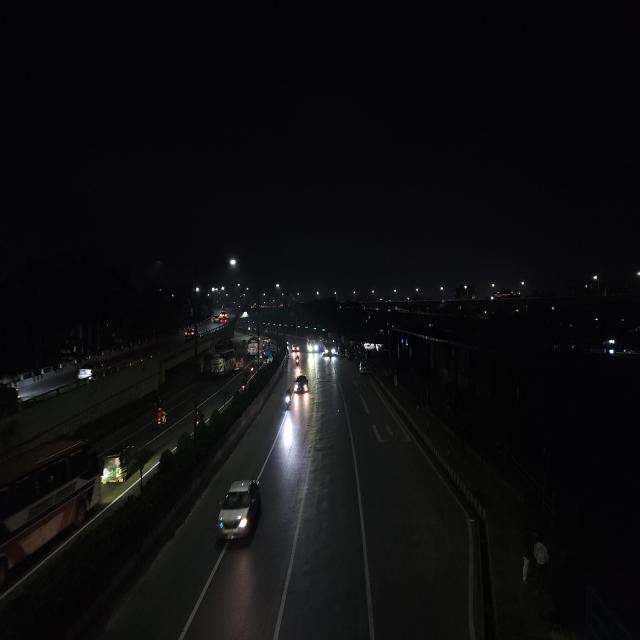bus: (0, 434, 101, 573), (209, 344, 237, 379), (246, 336, 260, 356), (324, 338, 337, 359), (308, 335, 320, 354)
car: (215, 476, 265, 550), (76, 359, 112, 384), (293, 372, 311, 396), (184, 324, 198, 339), (357, 359, 369, 376), (212, 315, 222, 324)
cng: (101, 437, 139, 486)
motorcycle: (153, 402, 169, 429), (192, 405, 204, 431), (283, 386, 295, 412), (295, 356, 301, 366)
